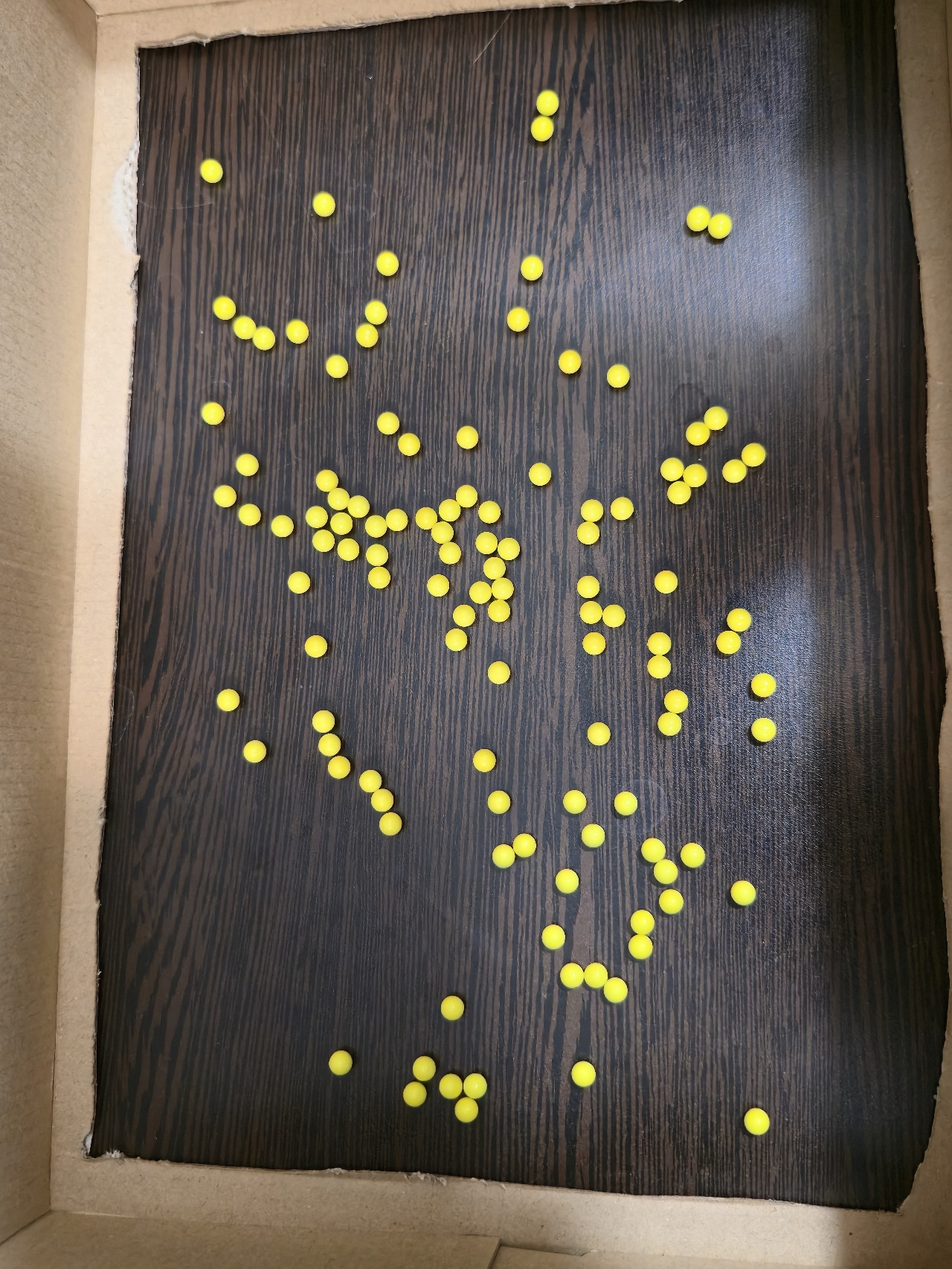yellow_bead: (750, 1114, 764, 1129), (712, 219, 727, 233), (692, 212, 707, 226), (238, 321, 253, 334), (577, 1067, 590, 1081), (609, 983, 622, 997), (589, 969, 602, 983), (566, 969, 579, 983), (636, 916, 649, 930), (647, 844, 660, 858), (758, 678, 771, 692), (659, 865, 672, 878), (686, 849, 699, 862), (758, 723, 771, 736), (729, 465, 742, 478), (469, 1079, 481, 1093), (460, 1104, 472, 1117), (445, 1080, 457, 1093), (418, 1063, 430, 1076), (634, 942, 647, 954), (547, 931, 559, 944), (665, 896, 678, 908), (737, 887, 750, 899), (670, 696, 683, 708), (723, 637, 736, 649), (733, 614, 746, 626), (710, 412, 723, 424), (370, 305, 381, 319), (318, 197, 329, 211), (335, 1057, 347, 1069), (446, 1003, 458, 1015), (518, 840, 530, 852), (620, 798, 632, 810), (664, 718, 676, 730), (654, 661, 666, 673), (582, 527, 594, 539), (689, 470, 701, 482), (666, 463, 678, 475), (612, 370, 624, 382), (256, 332, 268, 344), (205, 165, 217, 177), (409, 1088, 420, 1101), (674, 486, 685, 499), (561, 876, 573, 887), (587, 830, 599, 841), (569, 797, 581, 808), (493, 797, 504, 809), (608, 611, 620, 622), (660, 577, 672, 588), (437, 527, 448, 539), (370, 521, 382, 532), (692, 427, 703, 439), (331, 360, 342, 372), (361, 329, 372, 341), (513, 314, 524, 326), (747, 451, 760, 461), (527, 261, 537, 274), (498, 851, 509, 862), (365, 776, 376, 787), (324, 740, 335, 751), (594, 729, 605, 740), (222, 695, 233, 706), (475, 587, 486, 598), (583, 582, 594, 593), (489, 563, 500, 574), (276, 521, 287, 532), (336, 518, 347, 529), (484, 507, 495, 518), (617, 504, 628, 515), (535, 469, 546, 480), (206, 408, 217, 419), (542, 99, 553, 110), (654, 639, 666, 649), (451, 634, 461, 646), (586, 506, 598, 516), (385, 820, 396, 830), (377, 795, 387, 806), (249, 747, 260, 757), (318, 717, 329, 727), (493, 668, 504, 678), (497, 584, 508, 594), (293, 577, 303, 588), (374, 572, 384, 583), (445, 548, 455, 559), (343, 544, 353, 555), (504, 544, 514, 555), (481, 538, 492, 548), (318, 536, 328, 547), (391, 515, 402, 525), (243, 510, 254, 520), (444, 506, 455, 516), (353, 502, 364, 512), (333, 494, 344, 504), (461, 492, 472, 502), (241, 460, 252, 470), (383, 418, 393, 429), (291, 328, 302, 338), (382, 260, 393, 270), (495, 605, 504, 617), (334, 763, 344, 773), (479, 756, 489, 766), (311, 642, 321, 652), (589, 639, 599, 649), (459, 611, 469, 621), (586, 608, 596, 618), (372, 550, 382, 560), (421, 514, 431, 524), (219, 491, 229, 501), (322, 476, 332, 486), (433, 582, 443, 591), (311, 513, 321, 522), (404, 440, 413, 450), (463, 433, 472, 443), (565, 358, 572, 368), (218, 306, 226, 314), (536, 128, 541, 132)
